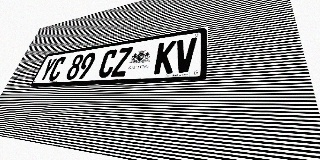8: (64, 54, 85, 80)
9: (76, 52, 97, 79)
C: (96, 49, 119, 78), (47, 56, 67, 81)
K: (153, 40, 177, 74)
V: (173, 37, 197, 73)
Y: (38, 58, 58, 82)
Z: (111, 47, 133, 77)
